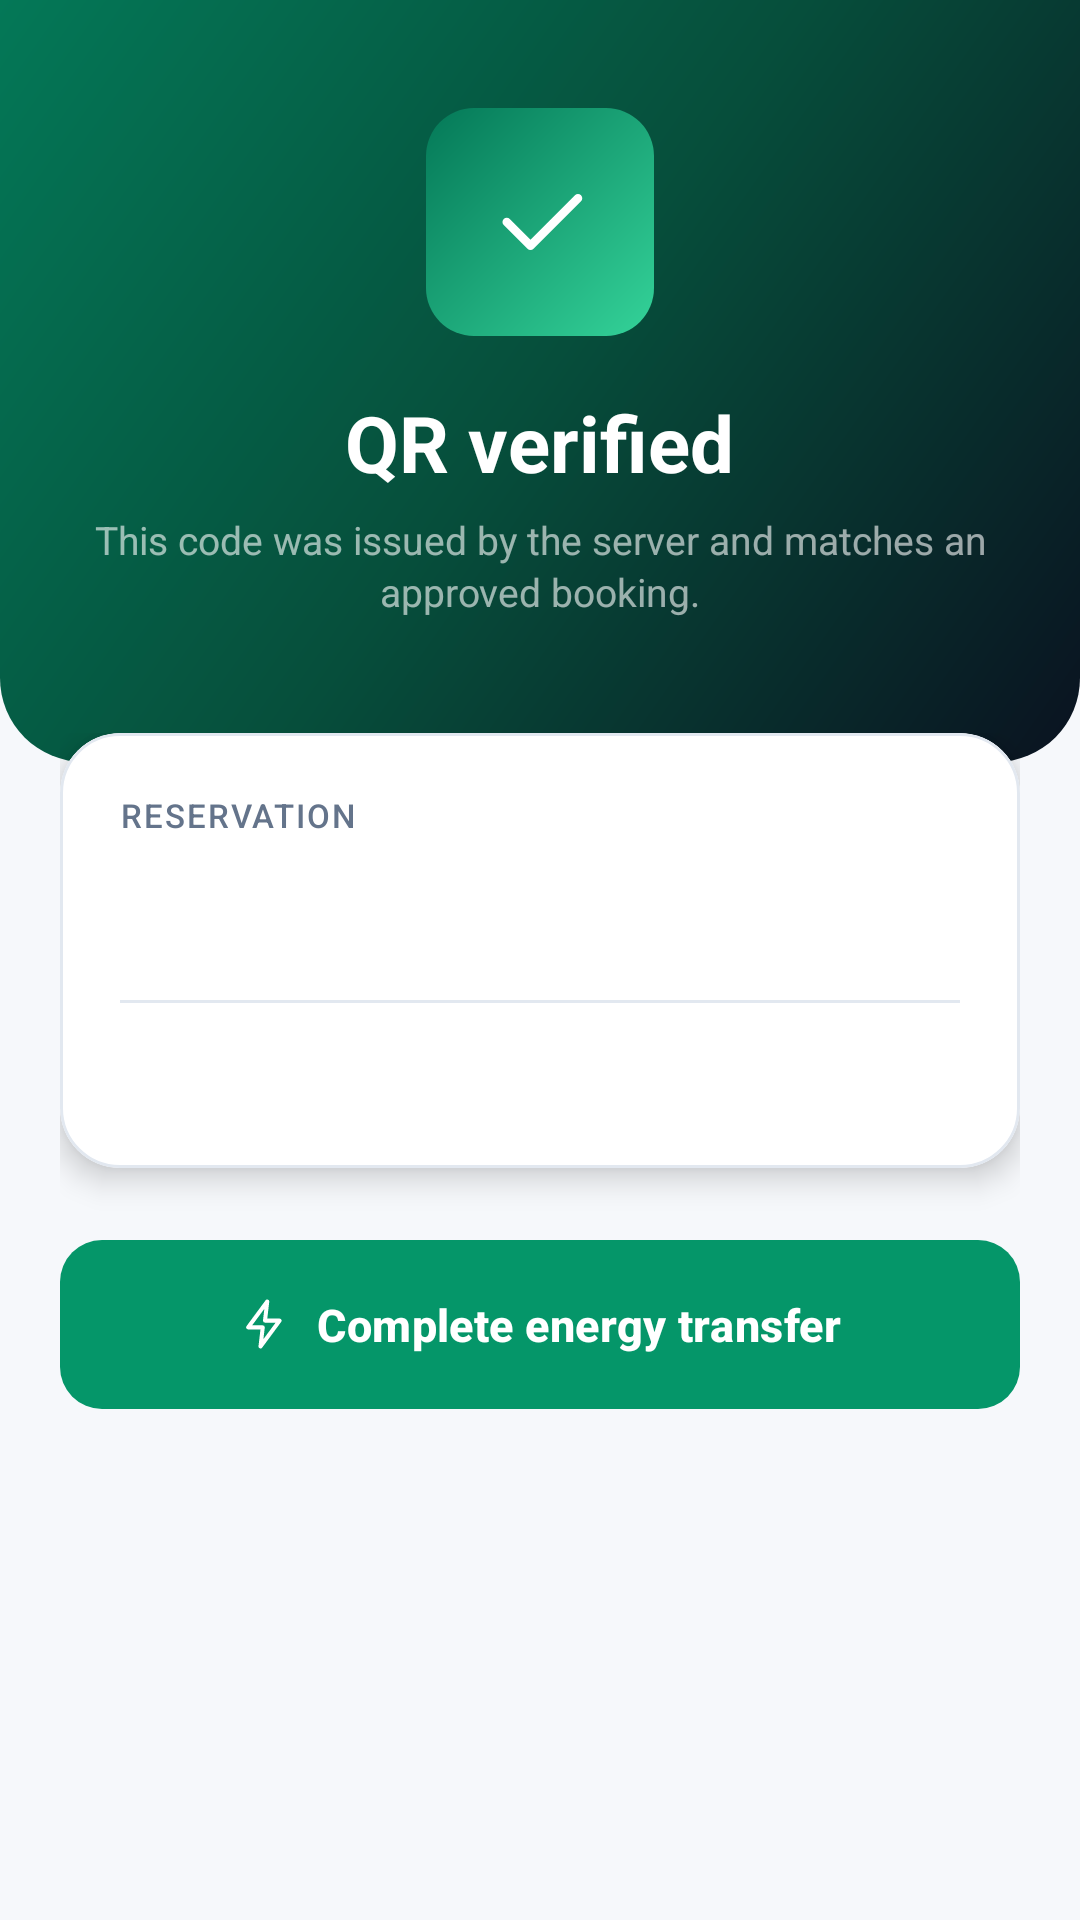

Point at icon controls on the screen. Image size 1080×1920, points as (x=x, y=y).
check: (x=549, y=236)
